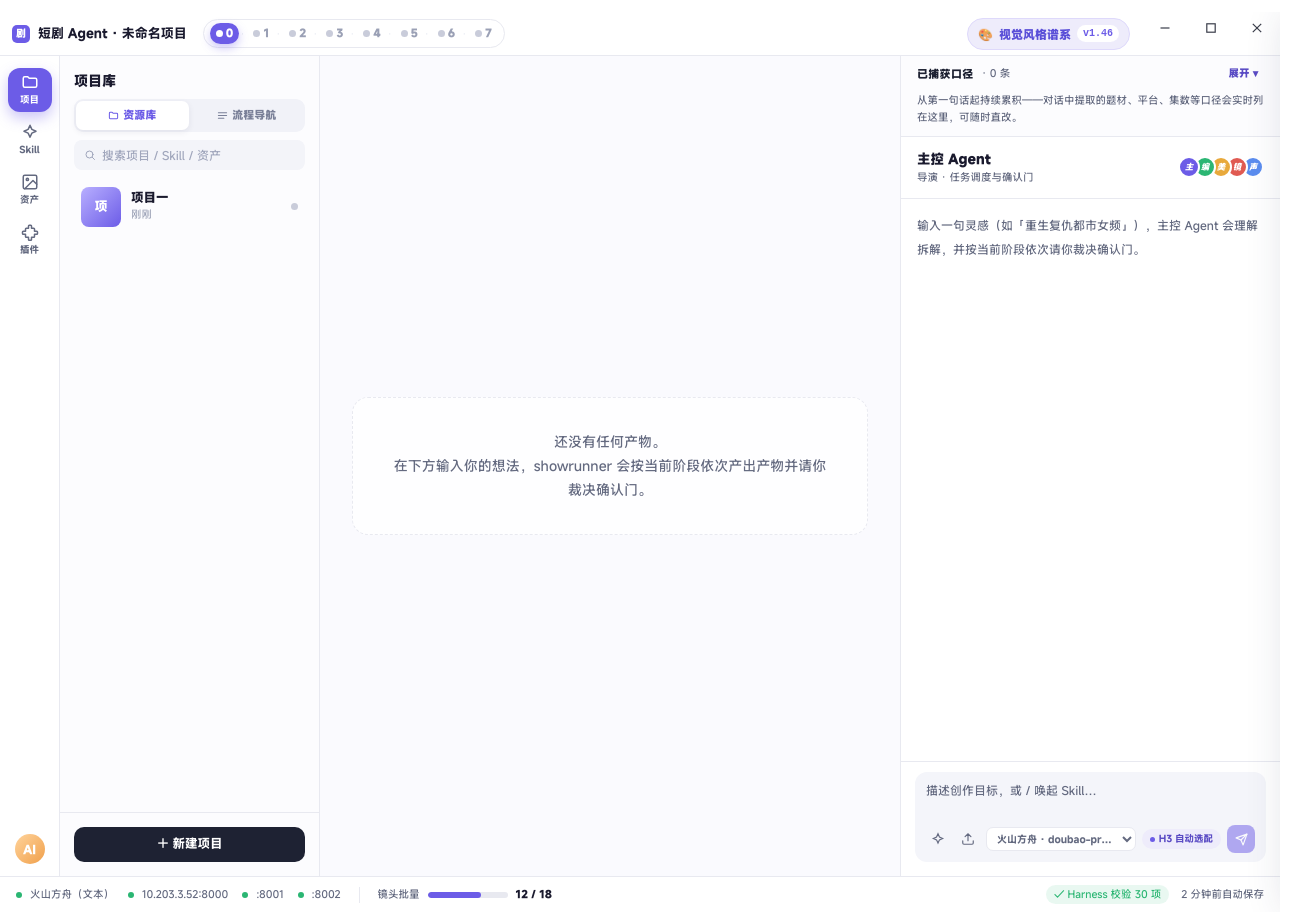
it: C7 · StudioApp 立项驱动 › 流式文本 → GateCard 挂载 → approved 裁决 → 画布节点更新
expect the text "短剧 Agent · 未命名项目" is shown: met, box [38,24,187,43]
# 先发送惰性建会话（绑定 sess-1）；D-007 严格归属后，流式只接受当前绑定 sid
In the text box with placeholder "描述创作目标，或 / 唤起 Skill…": (1090, 798) [926,781,1255,815], type "做一个重生复仇项目"
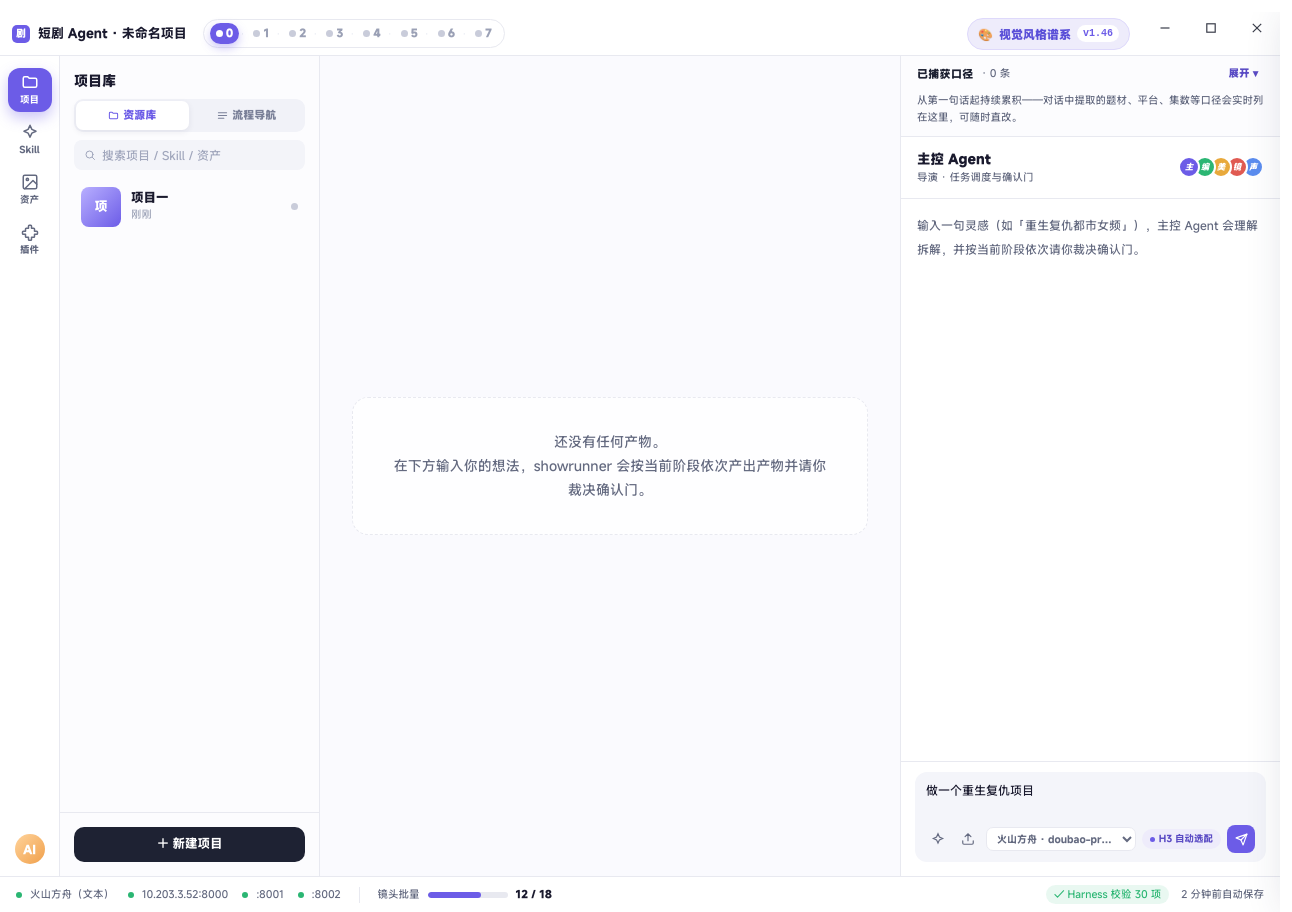
Click the button named "发送": (1241, 839) [1227,825,1255,853]
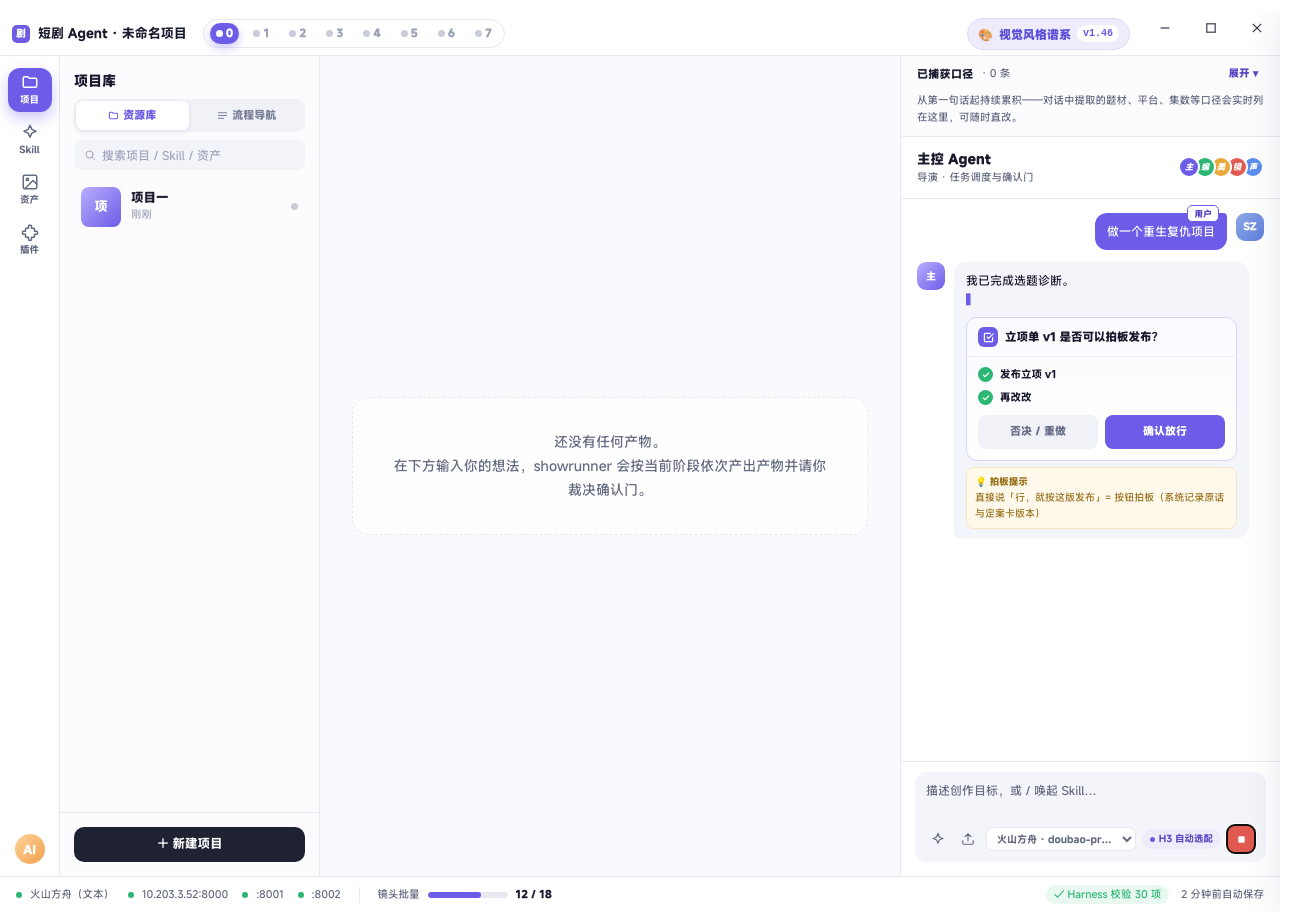
expect the text "我已完成选题诊断。" is shown: met, box [966,272,1074,288]
expect the text "立项单 v1 是否可以拍板发布？" is shown: met, box [1005,328,1163,347]
Click the button "确认放行": (1165, 432) [1105,415,1225,449]
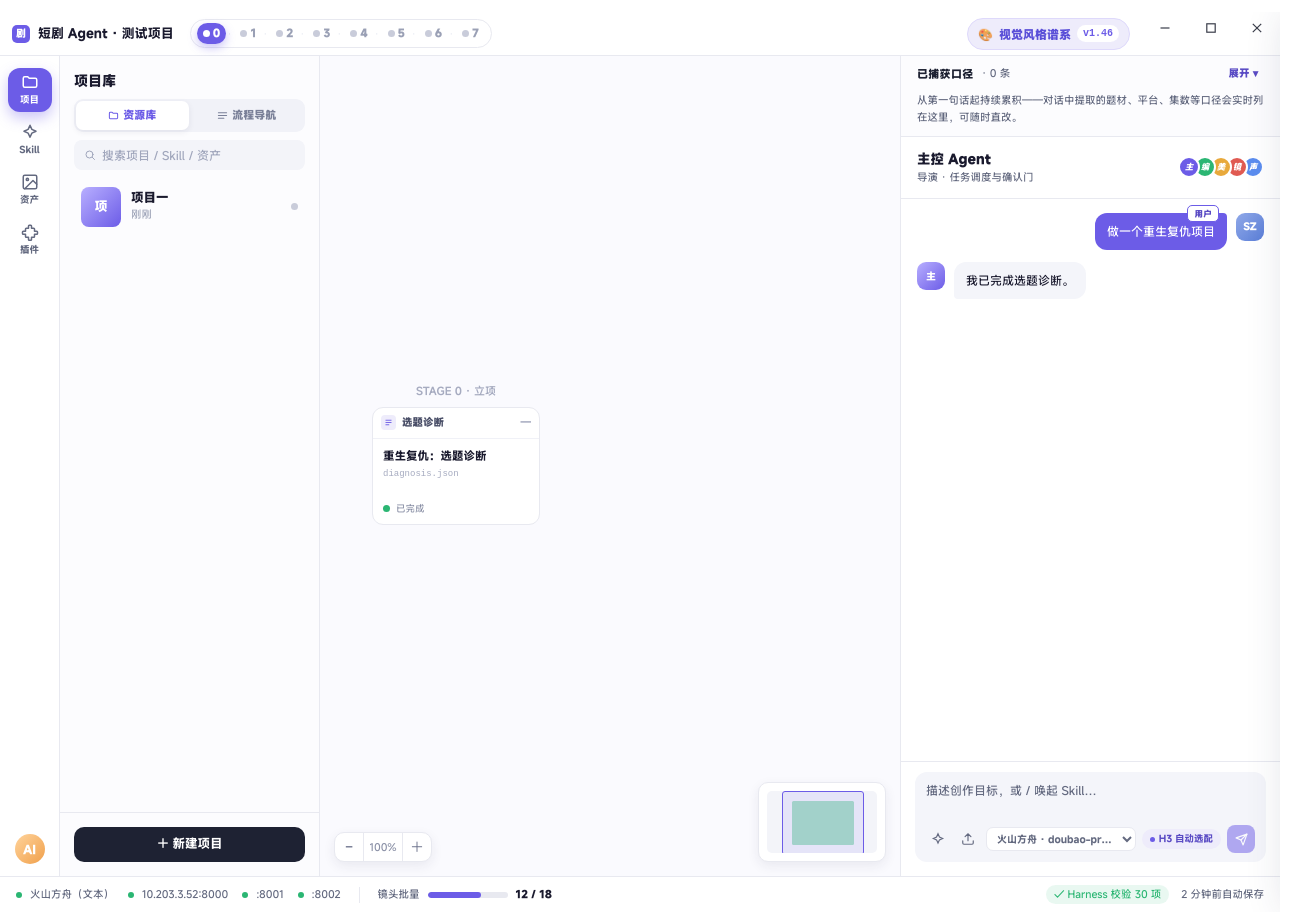
expect the text "我已完成选题诊断。" is shown: met, box [966,271,1074,290]
expect the text "重生复仇：选题诊断" is shown: met, box [383,448,486,463]
expect the text "已完成" is shown: met, box [383,502,424,515]
